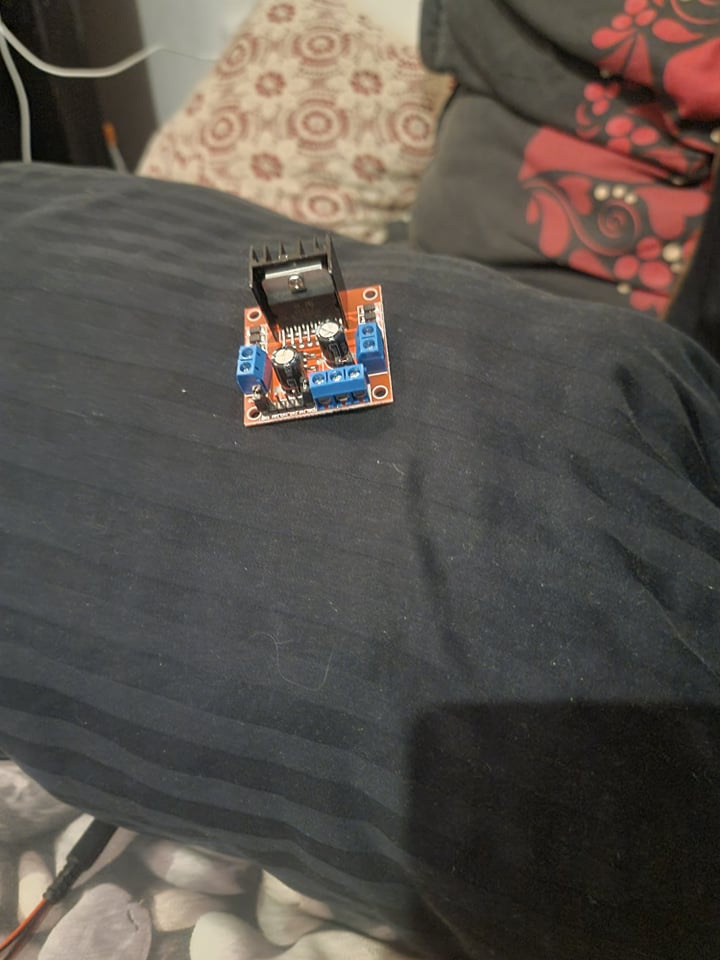MOTOR: (236, 234, 399, 429)
